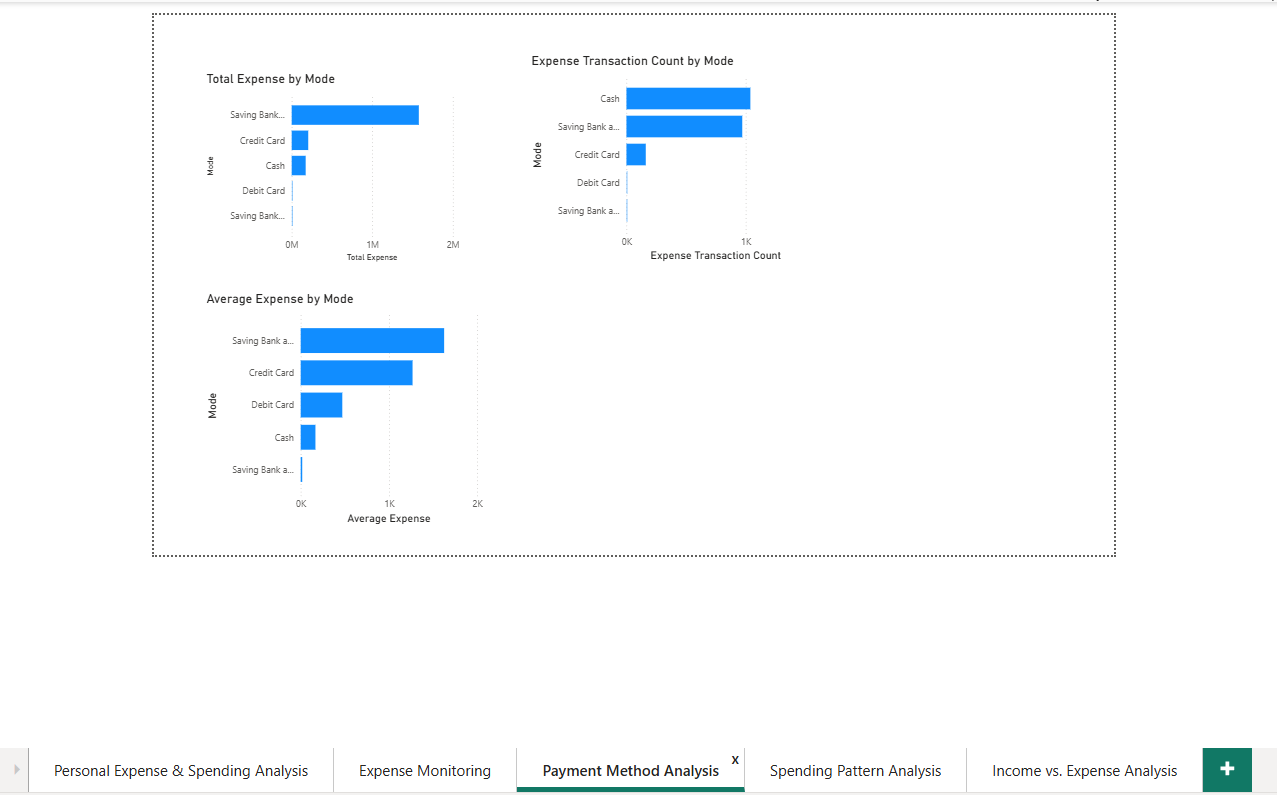

What the dashboard file says about the page in this screenshot:
{"tool":"powerbi","page":{"name":"Payment Method Analysis","canvas":[1280,720],"ordinal":2},"visuals":[{"type":"barChart","fields":{"Category":["Daily Household Transactions.Mode"],"Y":["Daily Household Transactions.Total Expense"]},"box":[64.5,75.5,352.7,259.3],"z":0},{"type":"barChart","fields":{"Category":["Daily Household Transactions.Mode"],"Y":["Daily Household Transactions.Expense Transaction Count"]},"box":[498.1,50.8,388.3,284],"z":1},{"type":"barChart","fields":{"Category":["Daily Household Transactions.Mode"],"Y":["Daily Household Transactions.Average Expense"]},"box":[64.5,369.1,384.2,315.6],"z":2}]}

Visuals, with their boxes on the page's 1280x720 design canvas (x1, y1, x2, y2). These are canvas units, not pixel positions in the 1277x795 screenshot, which may show the page scaled, cropped or inside an application window:
barChart - Daily Household Transactions.Mode x Daily Household Transactions.Total Expense: bbox(64, 76, 417, 335)
barChart - Daily Household Transactions.Mode x Daily Household Transactions.Expense Transaction Count: bbox(498, 51, 886, 335)
barChart - Daily Household Transactions.Mode x Daily Household Transactions.Average Expense: bbox(64, 369, 449, 685)
